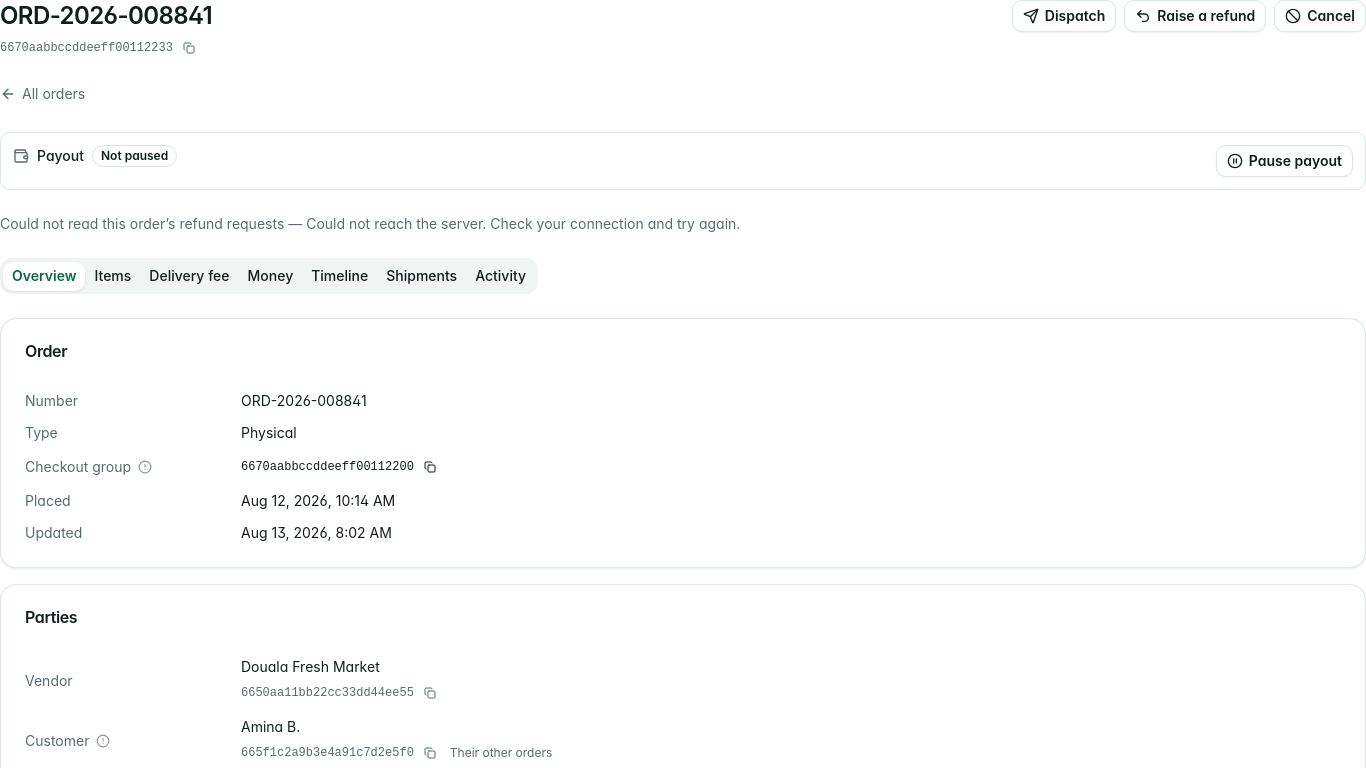
Scenario: the order payout card › reads EARNINGS_PAUSE_TARGET_NOT_FOUND as no such order, with no retry
Click the button "Pause payout" at (1284, 161), box [1216,145,1353,177]
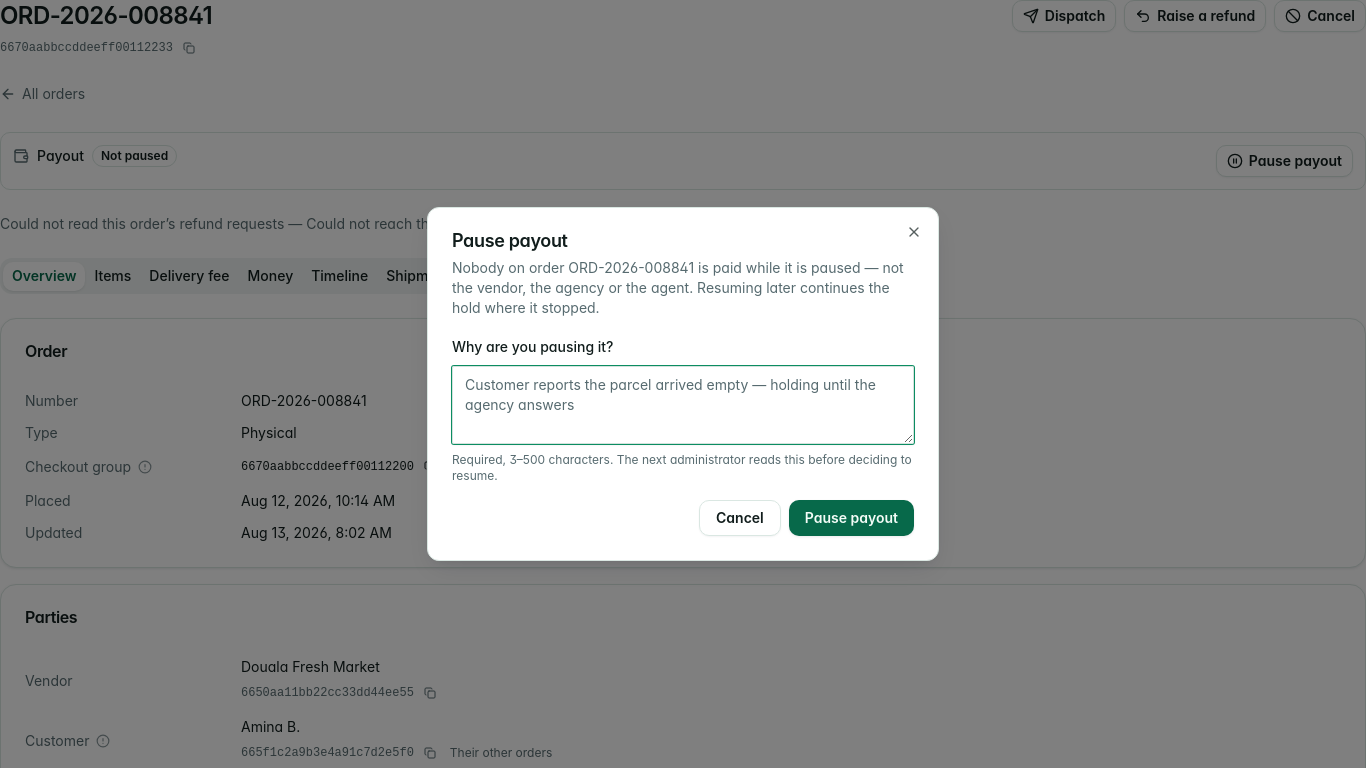
Type "Parcel empty" into the text box labelled "Why are you pausing it?" at (683, 405), box [452,366,914,444]
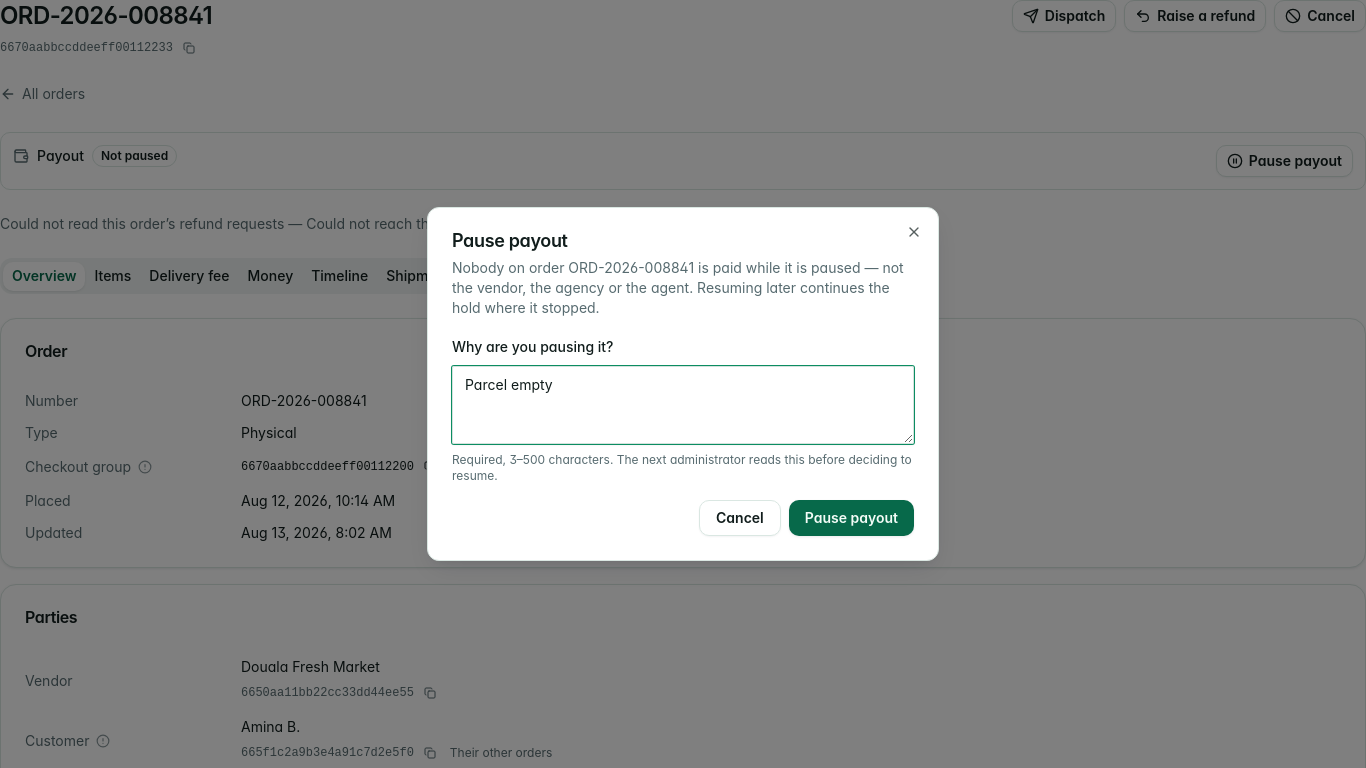
Click the button "Pause payout" at (851, 518), box [789,500,914,536]
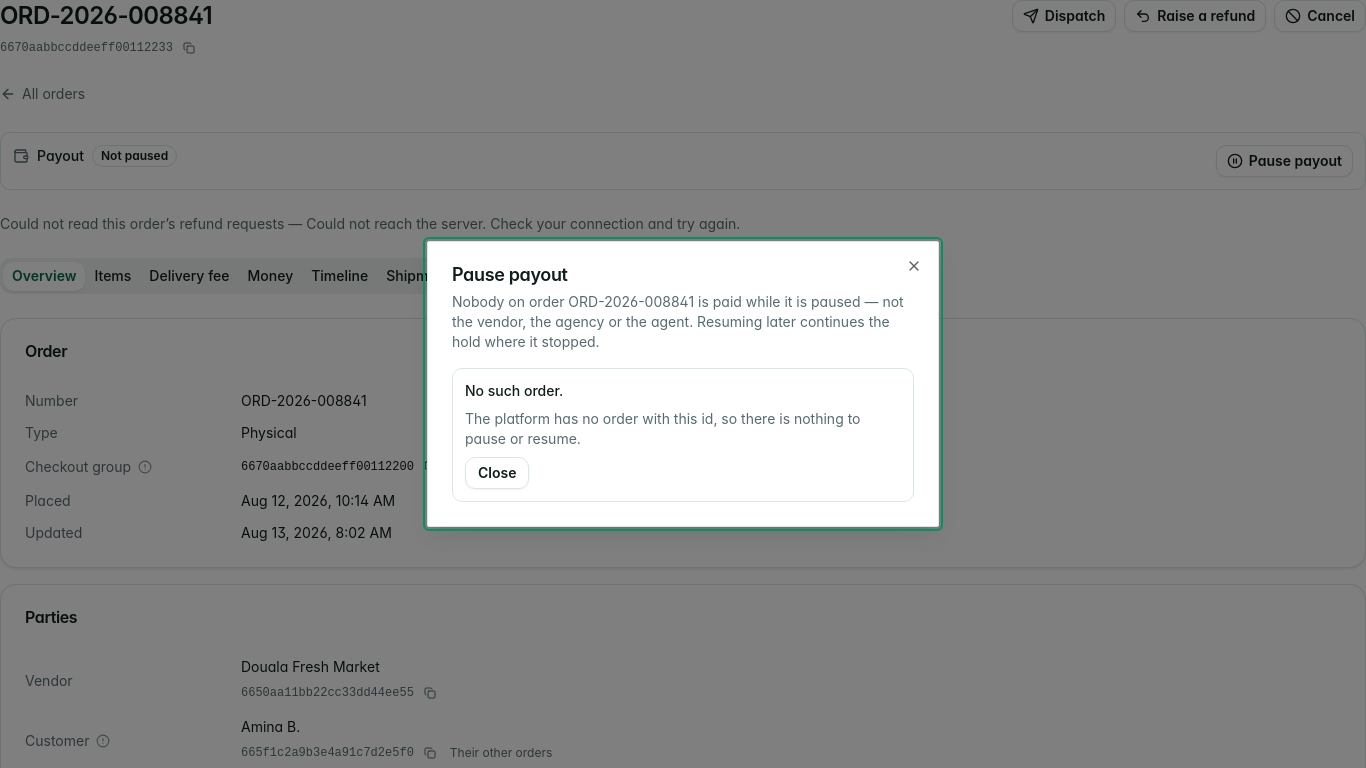
Now the text "No such order." is shown, box [465,382,563,399]
